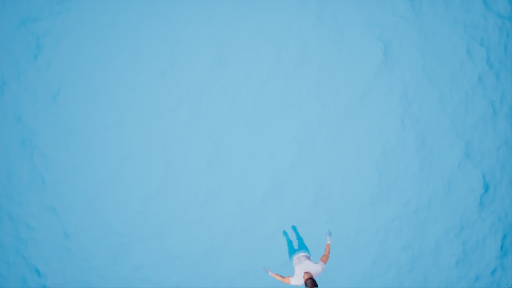person: (269, 221, 346, 288)
